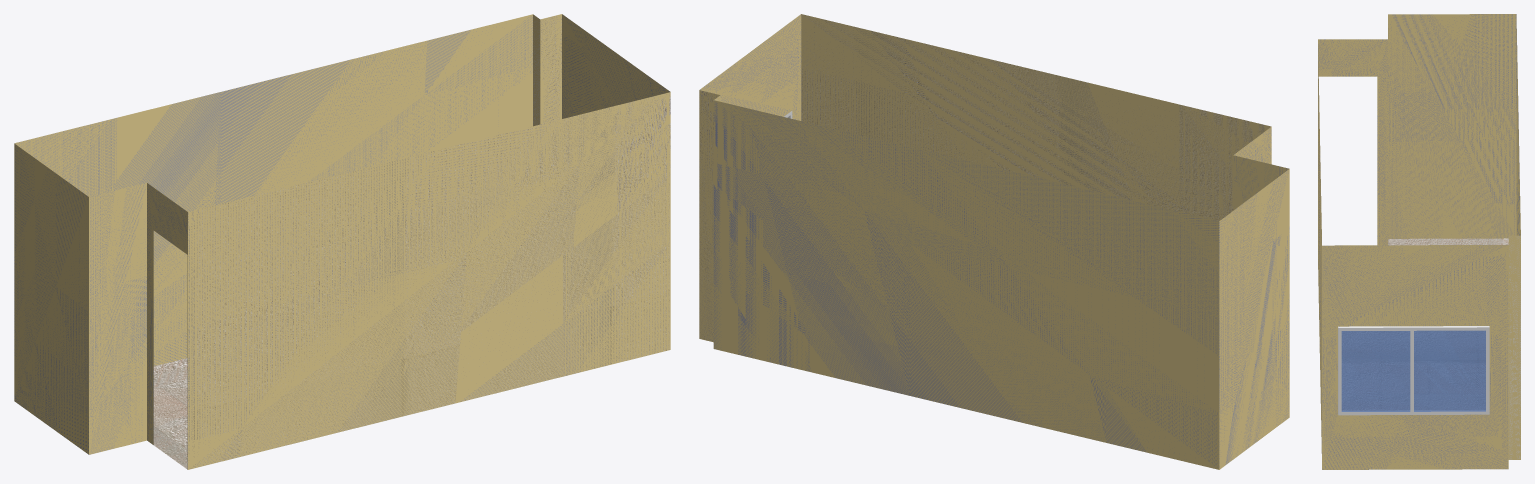
File: DES007.obj
3 views of the same model, side by side, from view 1: azimuth 30°, elevation 25°; view 2: azimuth 150°, elevation 25°; view 3: azimuth 270°, elevation 25° (orthographic). The views are drawn at different scales.
Visible parts, largest first — view 1: Mesh6 DES007 Model; view 2: Mesh6 DES007 Model; view 3: Mesh6 DES007 Model, Mesh1 ventana2_1 DES007 Model.
Part boxes in pixels (bbox=[...]): Mesh6 DES007 Model: bbox=[14, 14, 670, 469]; Mesh6 DES007 Model: bbox=[699, 14, 1289, 469]; Mesh6 DES007 Model: bbox=[1318, 14, 1520, 469]; Mesh1 ventana2_1 DES007 Model: bbox=[1338, 326, 1489, 415].
Bounding box in the file's own units: 8.01 × 3.6 × 2.95.
Materials: 8 (2 with a texture image).
